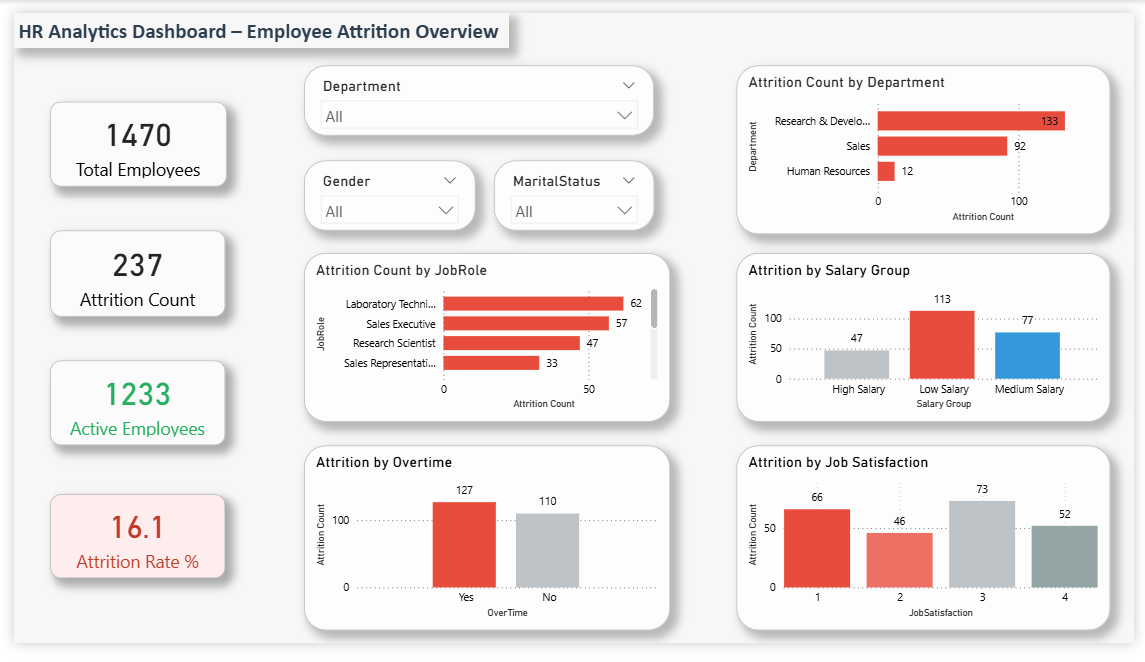

The dashboard page shown, as its layout file describes it:
{"tool":"powerbi","page":{"name":"HR Attrition Overview","canvas":[1280,720],"ordinal":0},"visuals":[{"type":"card","fields":{"Values":["HR-Employee Attriti.Total Employees"]},"box":[41.4,101.4,201.4,97.1],"z":0},{"type":"textbox","box":[0,0,565.7,40],"z":1000},{"type":"card","fields":{"Values":["HR-Employee Attriti.Attrition Count"]},"box":[41.4,248.6,200,98.6],"z":2000},{"type":"card","fields":{"Values":["HR-Employee Attriti.Active Employees"]},"box":[41.4,397.1,200,97.1],"z":3000},{"type":"card","fields":{"Values":["HR-Employee Attriti.Attrition Rate %"]},"box":[41.4,550,200,95.7],"z":4000},{"type":"clusteredBarChart","fields":{"Category":["HR-Employee Attriti.Department"],"Y":["HR-Employee Attriti.Attrition Count"]},"box":[825.7,60,427.1,192.9],"z":5000},{"type":"clusteredBarChart","fields":{"Y":["HR-Employee Attriti.Attrition Count"],"Category":["HR-Employee Attriti.JobRole"]},"box":[331.4,274.3,418.6,192.9],"z":6000},{"type":"clusteredColumnChart","title":"Attrition by Salary Group","fields":{"Y":["HR-Employee Attriti.Attrition Count"],"Category":["HR-Employee Attriti.Salary Group"]},"box":[825.7,274.3,427.1,192.9],"z":7000},{"type":"clusteredColumnChart","title":"Attrition by Overtime","fields":{"Y":["HR-Employee Attriti.Attrition Count"],"Category":["HR-Employee Attriti.OverTime"]},"box":[331.4,494.3,418.6,211.4],"z":8000},{"type":"clusteredColumnChart","title":"Attrition by Job Satisfaction","fields":{"Category":["HR-Employee Attriti.JobSatisfaction"],"Y":["HR-Employee Attriti.Attrition Count"]},"box":[825.7,494.3,427.1,211.4],"z":9000},{"type":"slicer","fields":{"Values":["HR-Employee Attriti.Department"]},"box":[331.4,60,400,80],"z":10000},{"type":"slicer","fields":{"Values":["HR-Employee Attriti.Gender"]},"box":[331.4,168.6,195.7,80],"z":11000},{"type":"slicer","fields":{"Values":["HR-Employee Attriti.MaritalStatus"]},"box":[548.6,168.6,182.9,80],"z":12000}]}

Visuals, with their boxes in screenshot pixels (x1, y1, x2, y2), scaled from the page's 1280x720 canvas onto the 1145x662 screenshot:
card - HR-Employee Attriti.Total Employees: (37,93,217,183)
textbox: (0,0,506,37)
card - HR-Employee Attriti.Attrition Count: (37,229,216,319)
card - HR-Employee Attriti.Active Employees: (37,365,216,454)
card - HR-Employee Attriti.Attrition Rate %: (37,506,216,594)
clusteredBarChart - HR-Employee Attriti.Department x HR-Employee Attriti.Attrition Count: (739,55,1121,233)
clusteredBarChart - HR-Employee Attriti.Attrition Count x HR-Employee Attriti.JobRole: (296,252,671,430)
"Attrition by Salary Group" clusteredColumnChart: (739,252,1121,430)
"Attrition by Overtime" clusteredColumnChart: (296,454,671,649)
"Attrition by Job Satisfaction" clusteredColumnChart: (739,454,1121,649)
slicer - HR-Employee Attriti.Department: (296,55,654,129)
slicer - HR-Employee Attriti.Gender: (296,155,472,229)
slicer - HR-Employee Attriti.MaritalStatus: (491,155,654,229)
